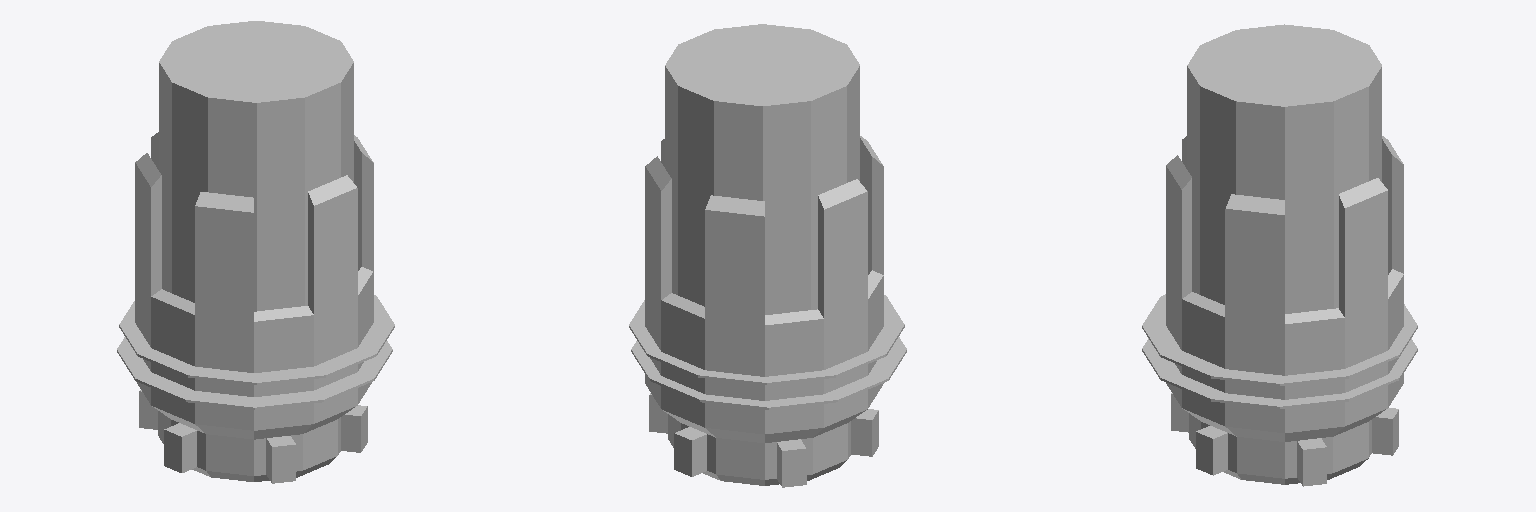
File: smokeMachine.obj
The picture shows the model from 3 angles: view 1: azimuth 30°, elevation 25°; view 2: azimuth 150°, elevation 25°; view 3: azimuth 270°, elevation 25°; orthographic projection.
Parts seen in each view (by area): view 1: group[number redacted], group[number redacted], group[number redacted], group[number redacted]; view 2: group[number redacted], group[number redacted], group[number redacted], group[number redacted]; view 3: group[number redacted], group[number redacted], group[number redacted], group[number redacted].
Boxes of the visible parts, <box> form: group[number redacted]: <box>135,132,373,483</box>; group[number redacted]: <box>159,21,353,311</box>; group[number redacted]: <box>119,295,394,384</box>; group[number redacted]: <box>117,337,392,409</box>; group[number redacted]: <box>645,136,883,487</box>; group[number redacted]: <box>665,24,859,314</box>; group[number redacted]: <box>629,295,904,384</box>; group[number redacted]: <box>631,337,906,409</box>; group[number redacted]: <box>1166,136,1403,486</box>; group[number redacted]: <box>1187,24,1381,313</box>; group[number redacted]: <box>1142,294,1417,385</box>; group[number redacted]: <box>1142,338,1417,408</box>.
Size of the model in its own units: 1.05 by 1.6 by 1.04.